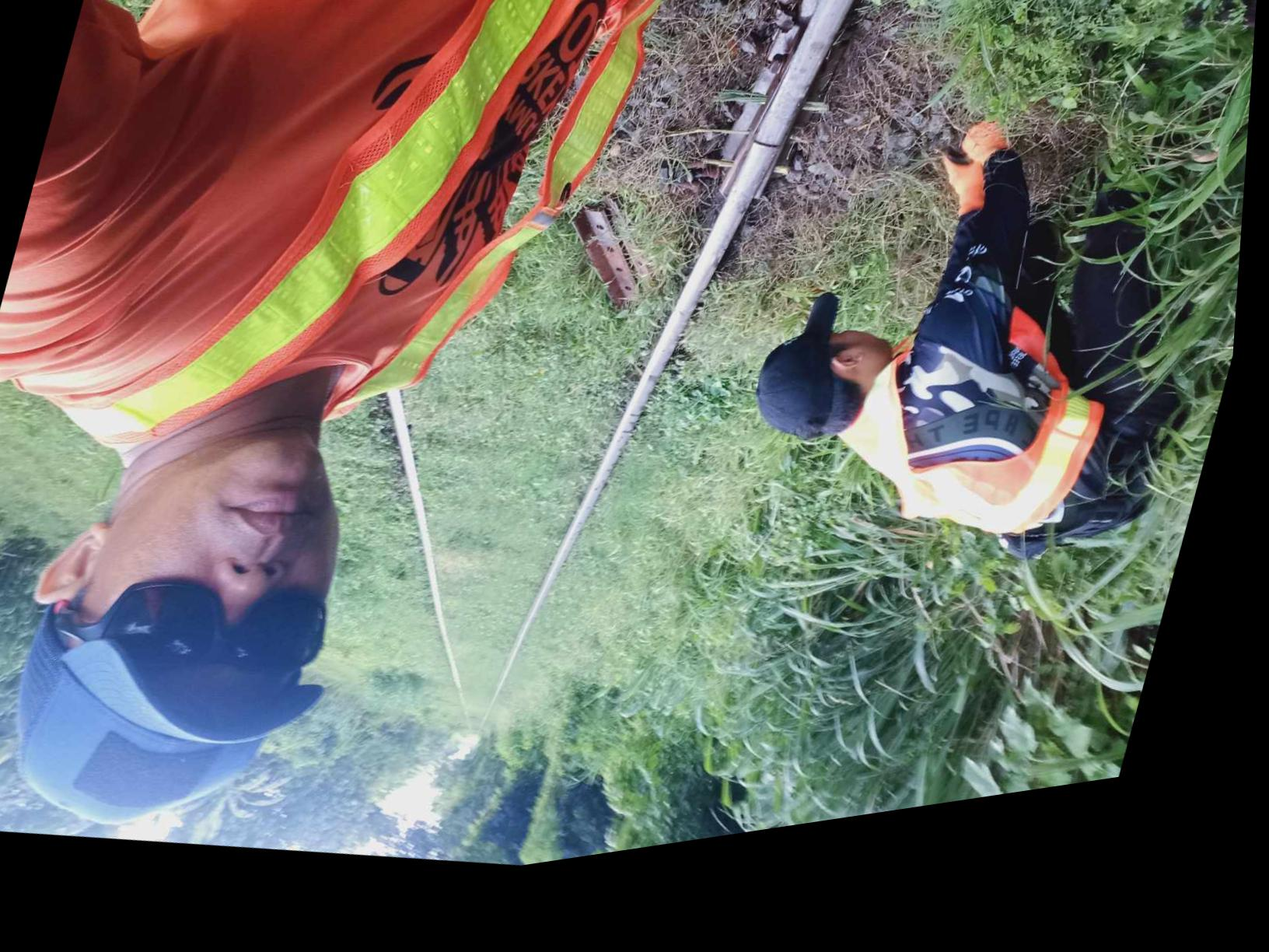person: (726, 124, 813, 216)
